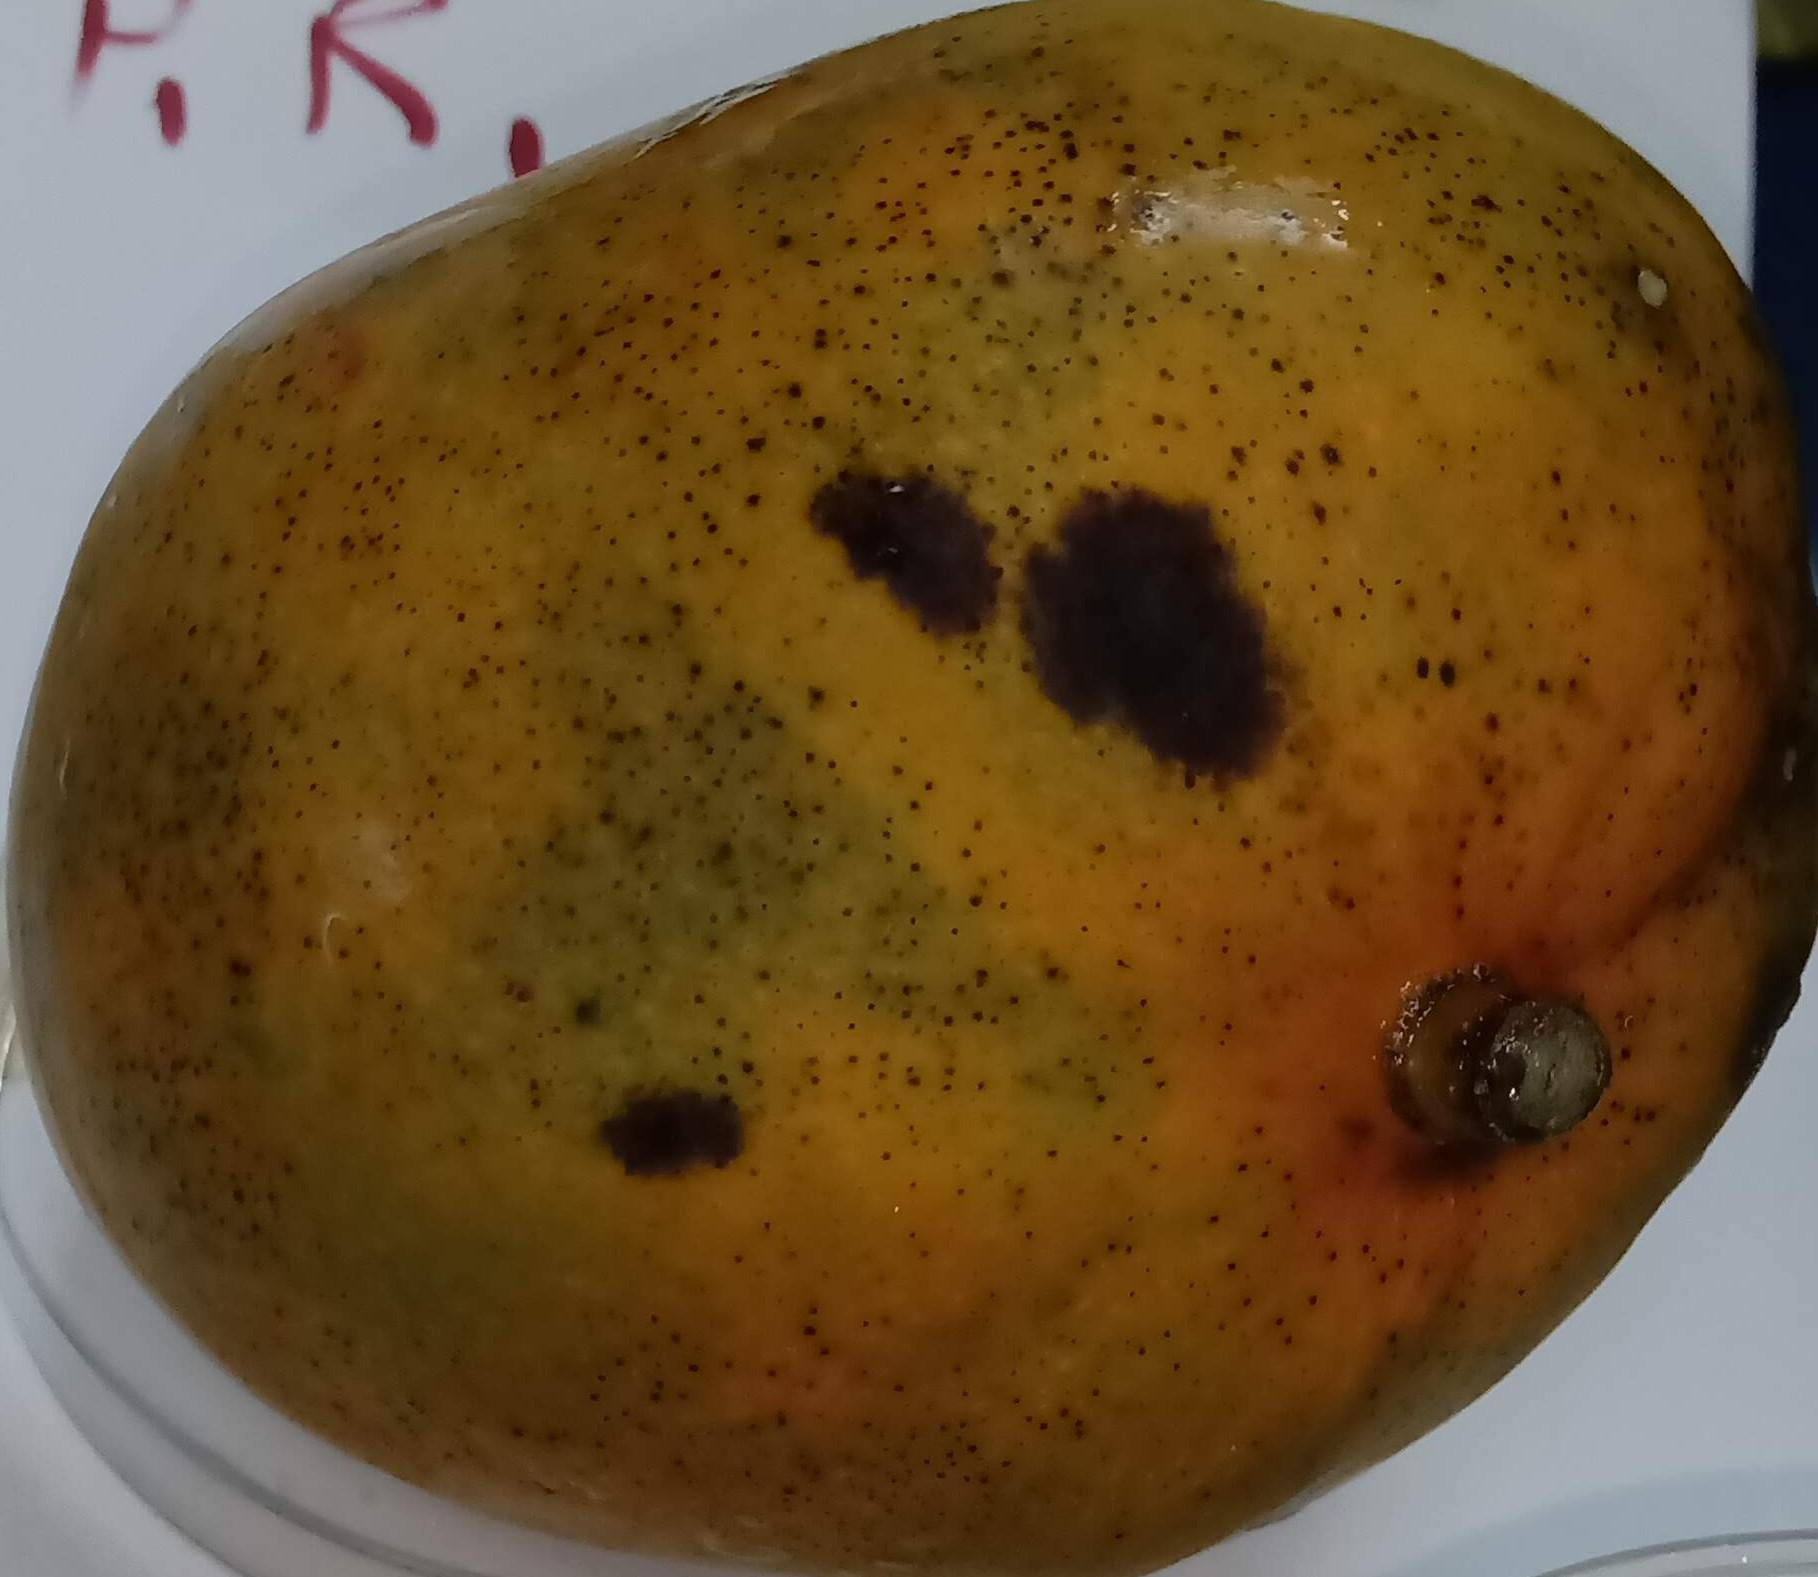mango: (5, 1, 1813, 1573)
